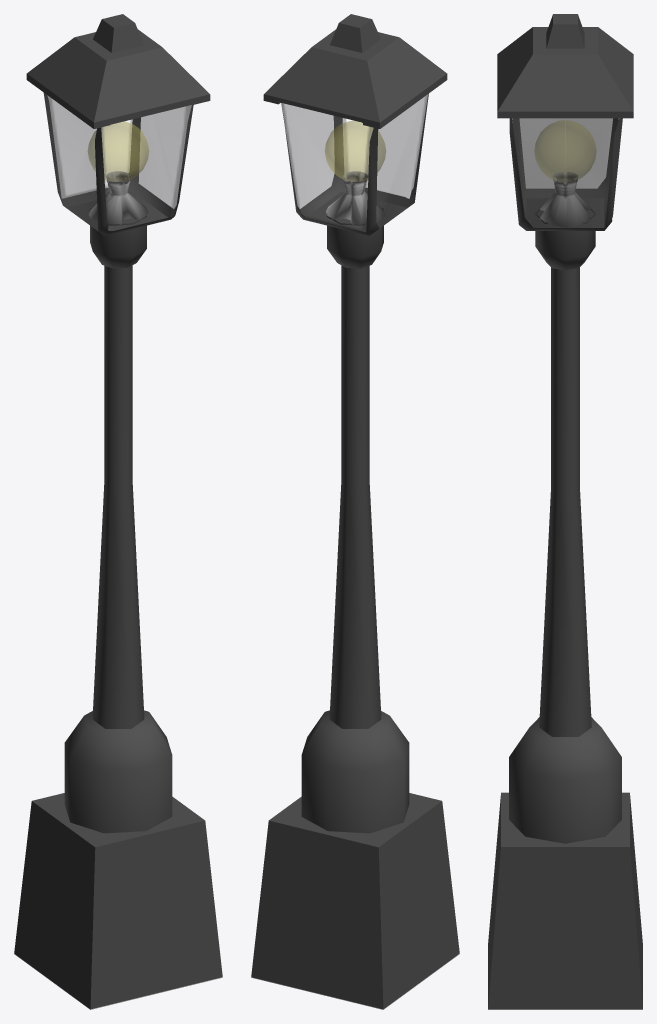
Rendered from lamp.obj.
3 views of the same model, side by side, from view 1: azimuth 30°, elevation 25°; view 2: azimuth 150°, elevation 25°; view 3: azimuth 270°, elevation 25° (orthographic).
Visible parts, largest first — view 1: ParkLamp_Untitled.189, Sphere; view 2: ParkLamp_Untitled.189, Sphere; view 3: ParkLamp_Untitled.189, Sphere.
Part boxes in pixels (left/top/right/bottom): ParkLamp_Untitled.189: left=14, top=14, right=222, bottom=1009; Sphere: left=88, top=121, right=149, bottom=224; ParkLamp_Untitled.189: left=251, top=14, right=459, bottom=1009; Sphere: left=324, top=120, right=385, bottom=224; ParkLamp_Untitled.189: left=488, top=14, right=642, bottom=1009; Sphere: left=534, top=120, right=596, bottom=227.
Size of what is drawn, in the model's own units: 0.4831 by 3.3 by 0.4831.
4 materials, 2 textured.
